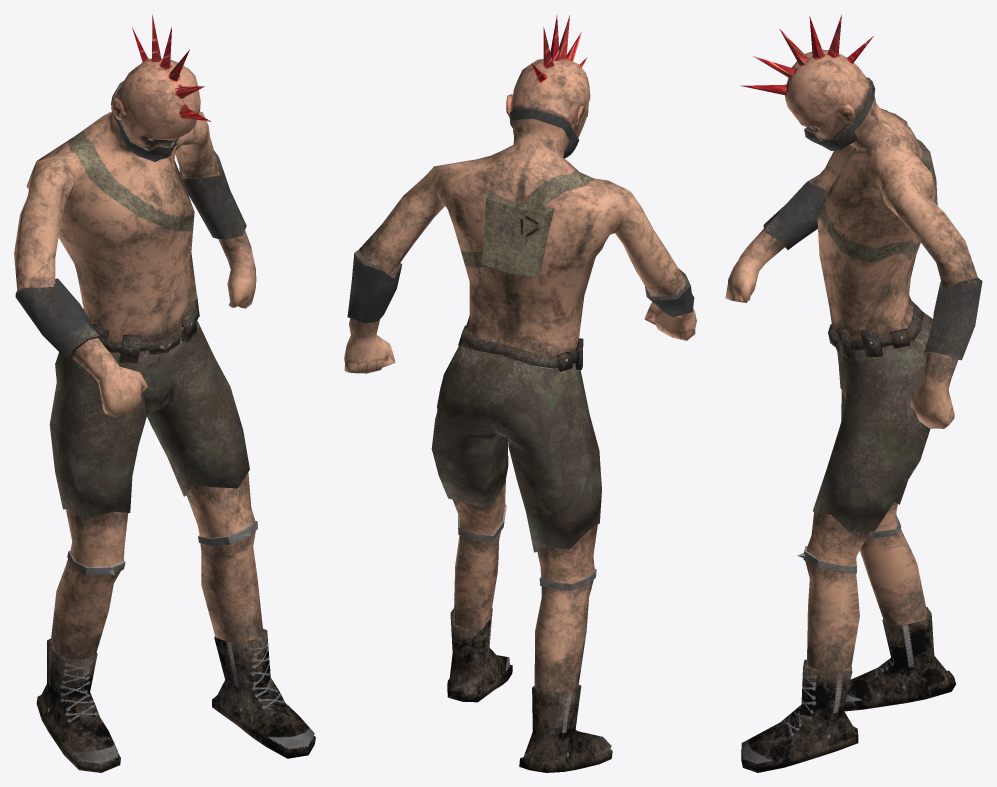
Rendered from Anim_cogerobjeto_npc2.0035.obj.
The picture shows the model from 3 angles, left to right: view 1: azimuth 30°, elevation 25°; view 2: azimuth 150°, elevation 25°; view 3: azimuth 270°, elevation 25°; orthographic projection. The views are drawn at different scales.
Parts seen in each view (by area): view 1: polySurface1; view 2: polySurface1; view 3: polySurface1.
Boxes of the visible parts, x1=… form: polySurface1: x1=14, y1=14, x2=315, y2=772; polySurface1: x1=344, y1=14, x2=696, y2=772; polySurface1: x1=725, y1=14, x2=982, y2=772.
Size of the model in its own units: 4.23 by 9.99 by 3.25.
